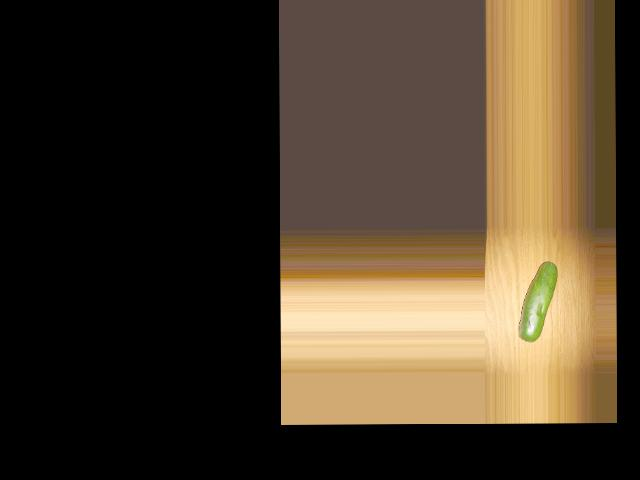cucumber: (518, 260, 557, 341)
